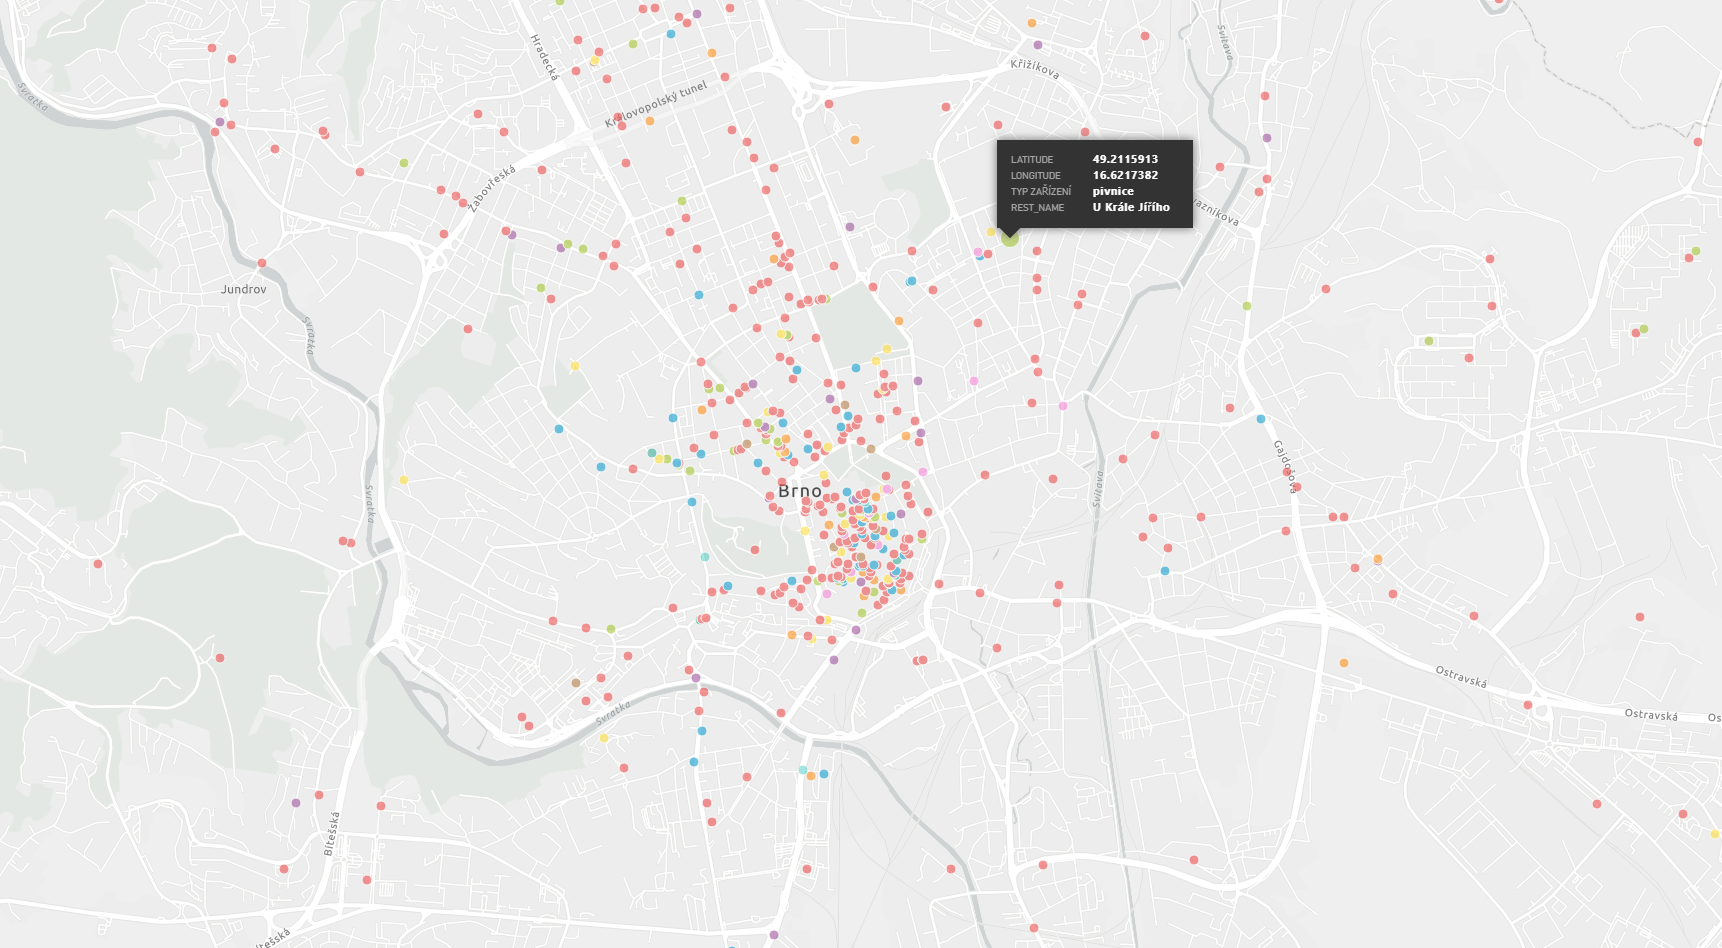

The page's visual inventory and layout, read from the dashboard file:
{"tool":"powerbi","page":{"name":"Page 1","canvas":[1280,720],"ordinal":0},"visuals":[{"type":"esriVisual","fields":{"Latitude":["rest_adress.latitude"],"Longitude":["rest_adress.longitude"],"Color":["info_rest__2.Typ"]},"box":[8,0,1272,720],"z":1}]}

Visuals, with their boxes in screenshot pixels (x1, y1, x2, y2), scaled from the page's 1280x720 canvas onto the 1722x948 screenshot:
esriVisual - rest_adress.latitude x rest_adress.longitude: detection(11, 0, 1721, 947)
